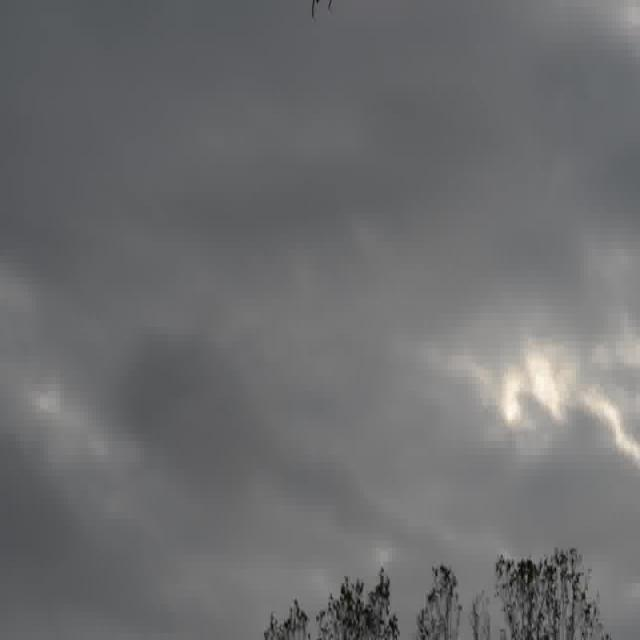drones: (303, 0, 344, 31)
